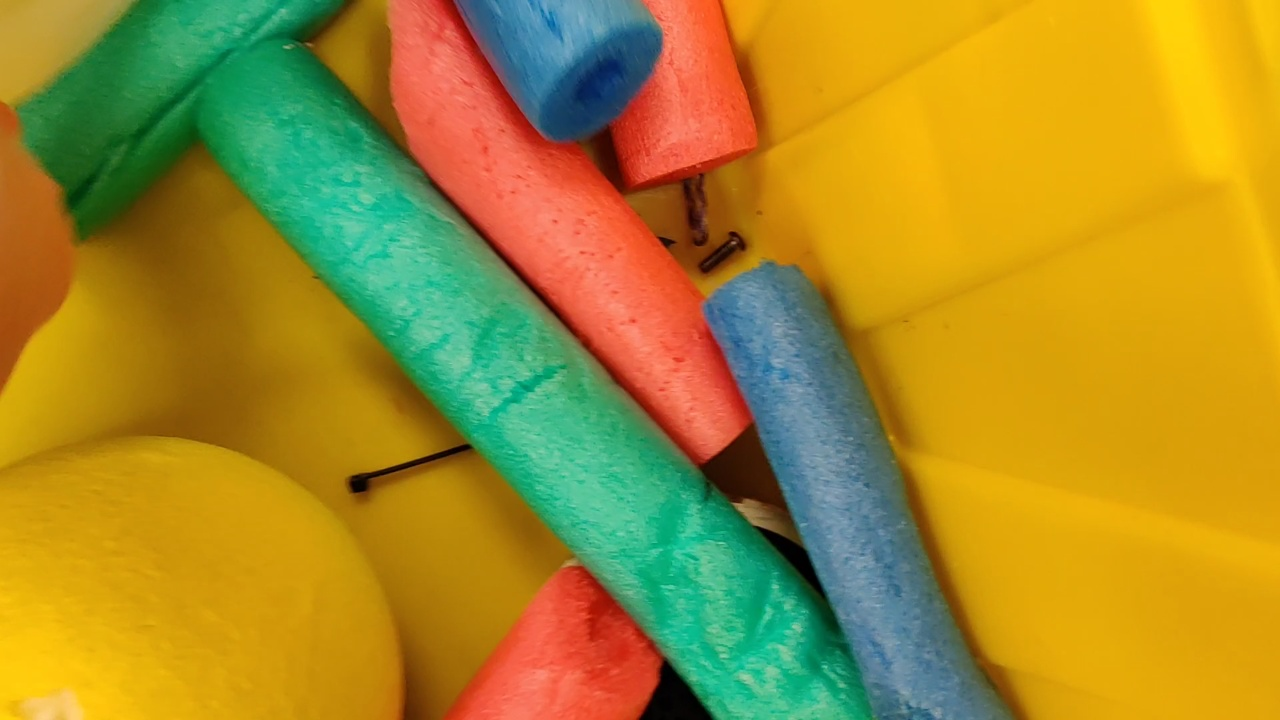Ball: (1, 436, 404, 720)
